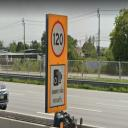speed_limit_120: (50, 18, 66, 62)
